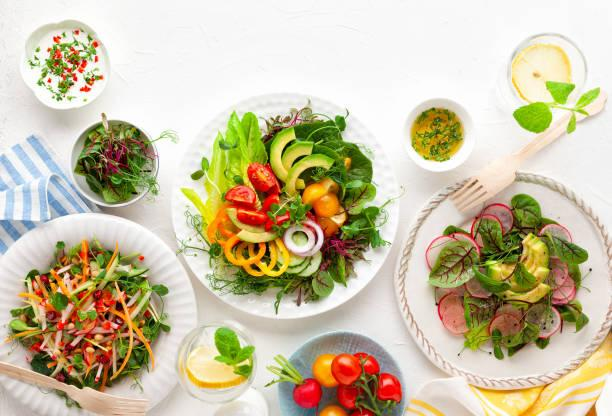Braised Crucian Carp: (174, 89, 397, 322), (395, 171, 611, 391), (0, 213, 189, 416)
